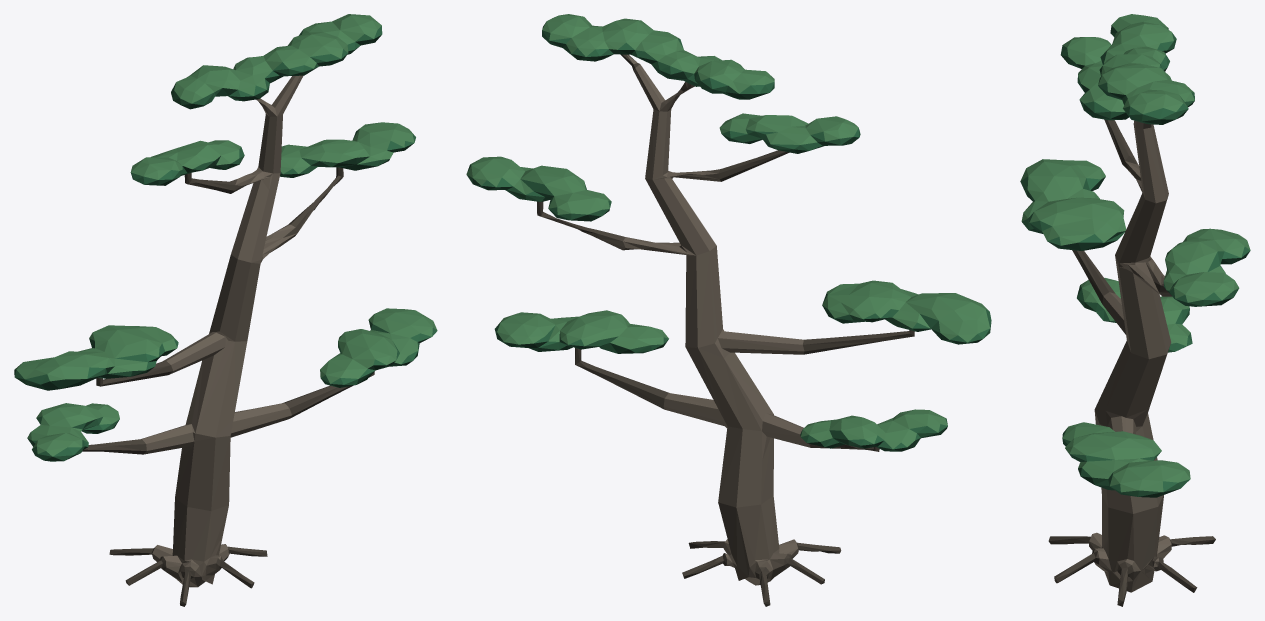
The model's file is ancient-pine-4137-lod1.glb.
3 views of the same model, side by side, from view 1: azimuth 30°, elevation 25°; view 2: azimuth 150°, elevation 25°; view 3: azimuth 270°, elevation 25° (orthographic). The views are drawn at different scales.
Visible parts, largest first — view 1: n12.005, n8.005, n9.005, n11.005, n10.005; view 2: n12.005, n8.005, n11.005, n9.005, n10.005; view 3: n12.005, n8.005, n11.005, n9.005, n10.005.
Part boxes in pixels (bbox=[...]): n12.005: bbox=[15, 14, 437, 456]; n8.005: bbox=[142, 75, 303, 587]; n9.005: bbox=[82, 167, 374, 606]; n11.005: bbox=[14, 26, 437, 460]; n10.005: bbox=[27, 35, 430, 461]; n12.005: bbox=[466, 14, 989, 448]; n8.005: bbox=[602, 55, 810, 585]; n11.005: bbox=[466, 22, 991, 449]; n9.005: bbox=[537, 54, 914, 606]; n10.005: bbox=[474, 37, 982, 451]; n12.005: bbox=[1020, 14, 1250, 492]; n8.005: bbox=[1089, 120, 1171, 592]; n11.005: bbox=[1020, 25, 1250, 496]; n9.005: bbox=[1048, 119, 1215, 606]; n10.005: bbox=[1023, 49, 1249, 497].
Bounding box in the file's own units: 4.92 × 5.41 × 1.93.
